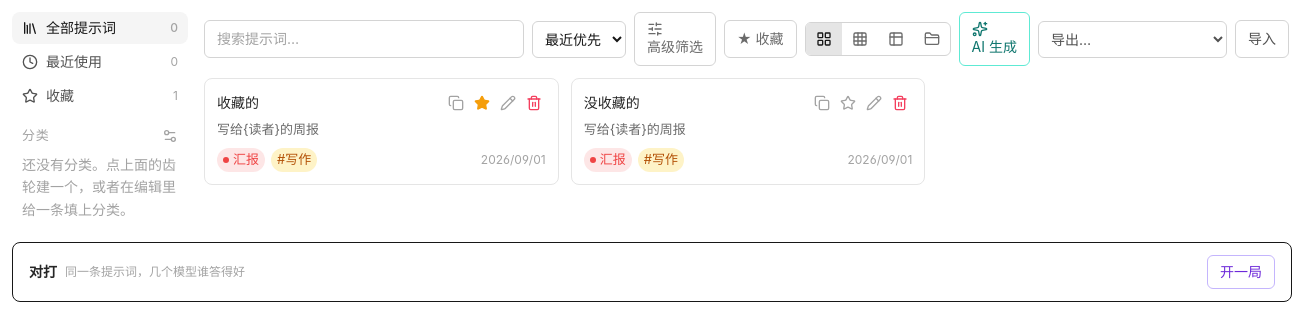
Test: PromptLibrary · 库 › 左导航的「收藏」与工具条那颗星是同一件事
Expected: the button "没收藏的" is shown, [584,93,806,113]
What coordinates should you click on to do the following:
click the button "★ 收藏"
I would click on:
 (760, 39)
Its box is [724,20,797,58].
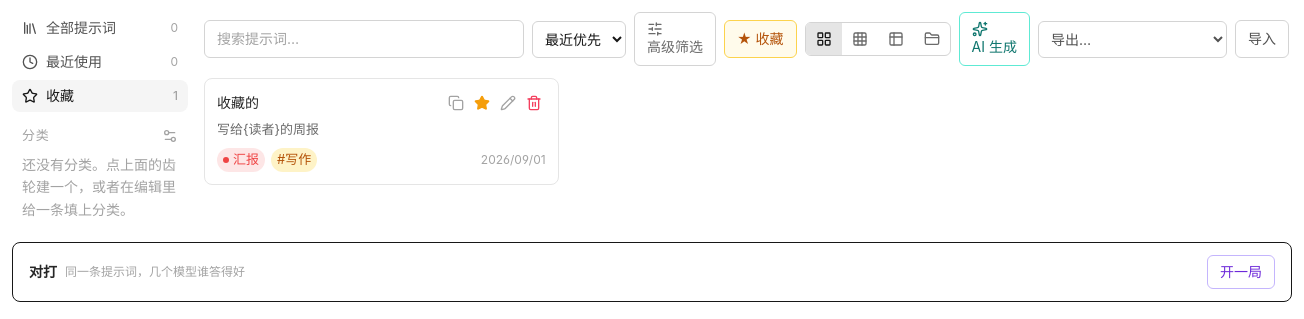
Expected: the element showing "收藏的 写给{读者}的周报 汇报 #写作 2026/09/01" is shown, [204,78,559,185]
Expected: the button "没收藏的" is gone
